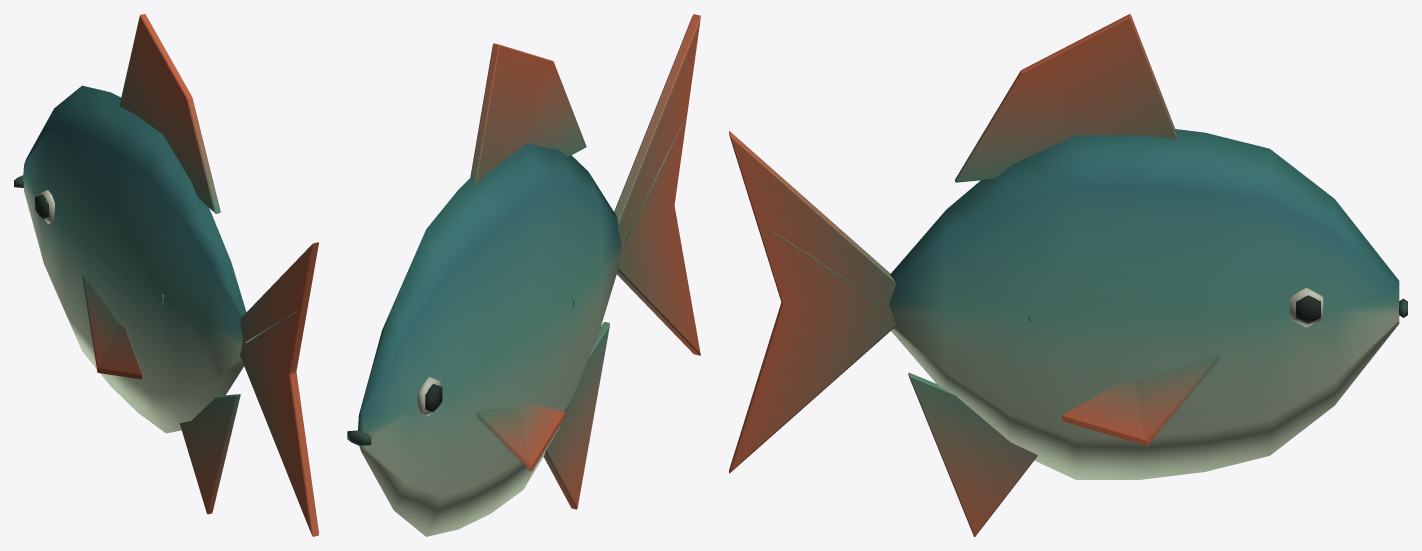
Rendered from fish_bitterling_low.glb.
3 renders of one model, left to right at view 1: azimuth 30°, elevation 25°; view 2: azimuth 150°, elevation 25°; view 3: azimuth 270°, elevation 25°, orthographic. The views are drawn at different scales.
Bounding box in the file's own units: 0.0104 × 0.0592 × 0.07.
